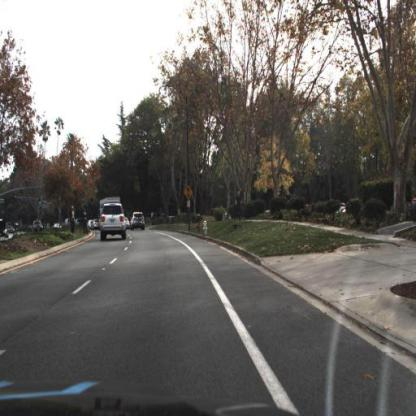car: (99, 201, 129, 243), (99, 202, 129, 244), (132, 212, 146, 231), (32, 217, 46, 234)
pedestrian: (233, 188, 244, 223), (70, 204, 79, 235), (81, 208, 89, 237)
